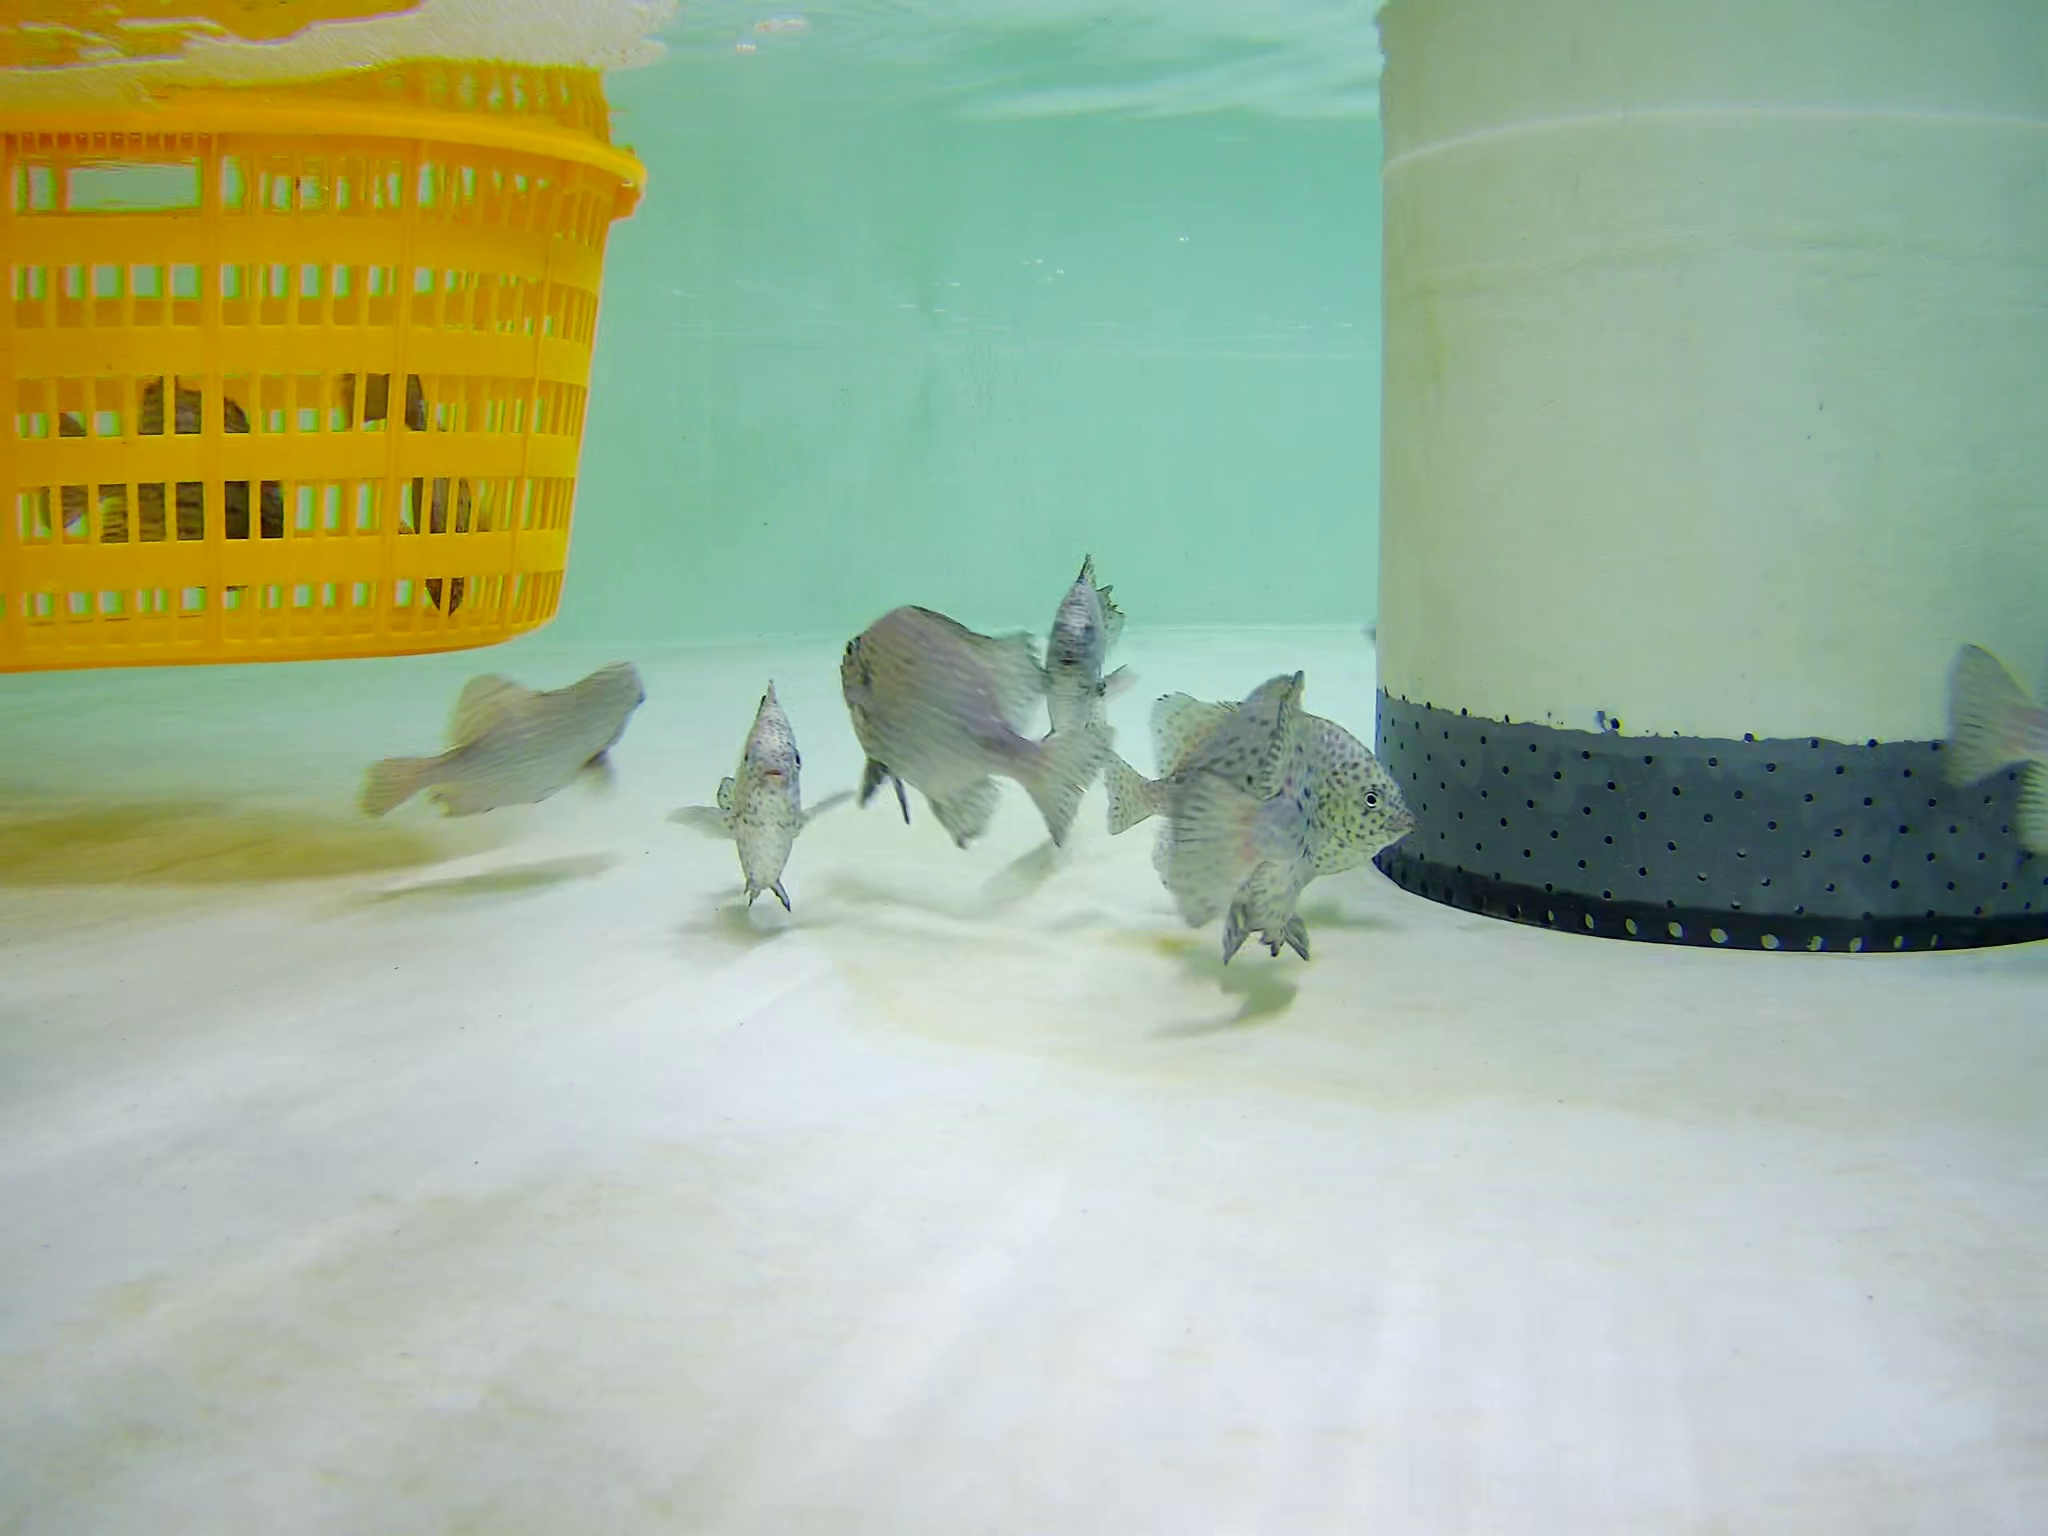fish: (824, 600, 1111, 857), (1100, 686, 1401, 881), (37, 386, 290, 599), (360, 663, 648, 824), (1114, 747, 1301, 934), (716, 678, 811, 941), (1943, 636, 2048, 862), (1035, 545, 1140, 768), (398, 449, 487, 605), (334, 366, 427, 470)
